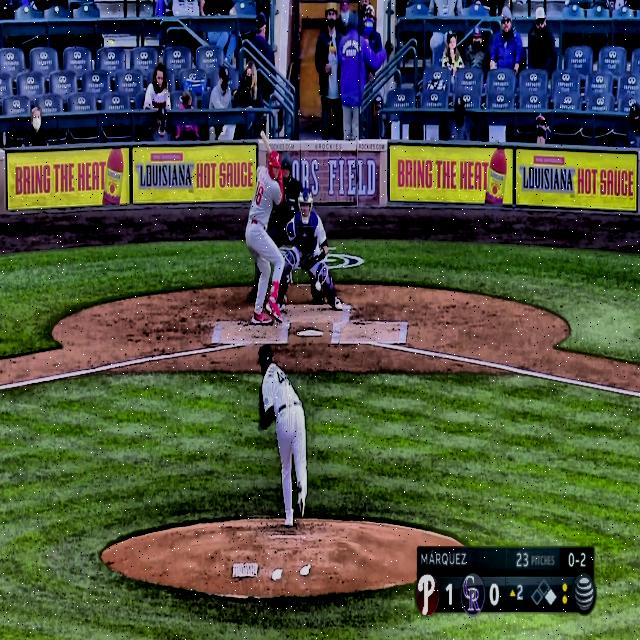baseball: (314, 280, 322, 292)
